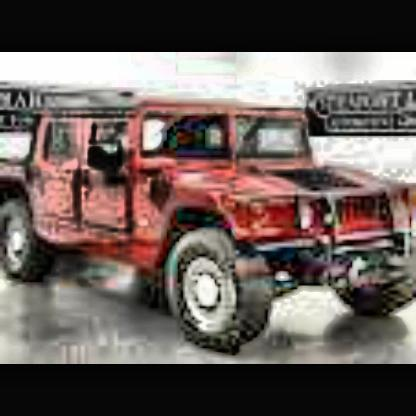AM General Hummer SUV 2000: (4, 100, 416, 357)
